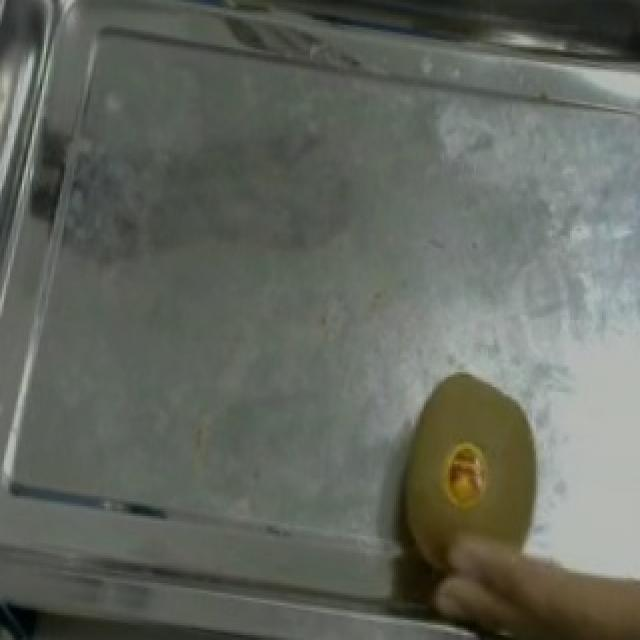Fruit: (362, 364, 572, 638)
